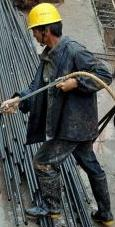boots: (25, 202, 61, 218), (91, 208, 115, 224)
hard-hat: (27, 1, 63, 29)
